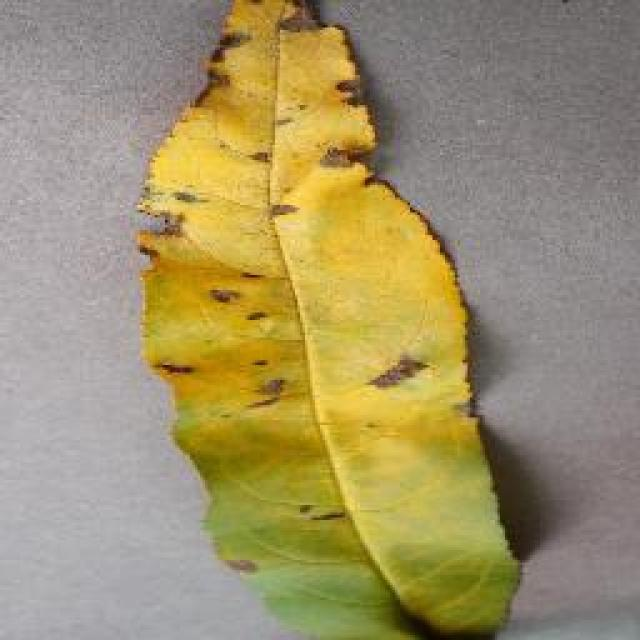Peach_Bacterial_Spot: (176, 8, 456, 535)
